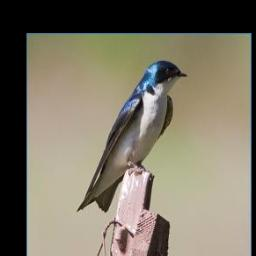Swallow: (75, 59, 188, 214)
